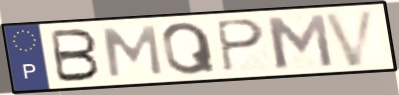B: (49, 27, 103, 84)
M: (262, 12, 337, 71), (100, 23, 166, 79)
P: (213, 17, 268, 75)
Q: (159, 20, 219, 77)
V: (321, 7, 380, 69)
